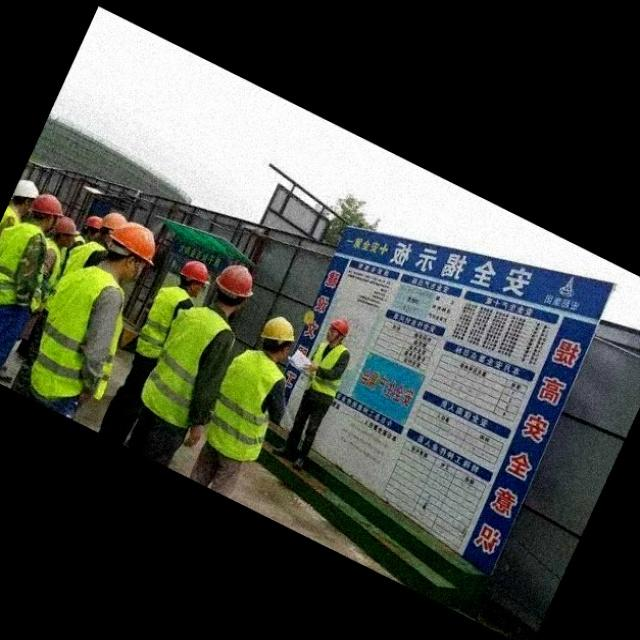Capacete: (111, 222, 155, 265), (215, 265, 252, 297), (261, 317, 294, 341), (30, 194, 63, 216), (180, 260, 209, 283), (101, 211, 127, 231), (13, 179, 39, 198), (53, 216, 78, 235), (330, 318, 348, 336), (84, 215, 102, 229)
Colete: (31, 266, 123, 397), (142, 307, 229, 428), (206, 350, 283, 460), (136, 286, 188, 358), (0, 222, 44, 304), (64, 241, 104, 274), (312, 342, 346, 368)
